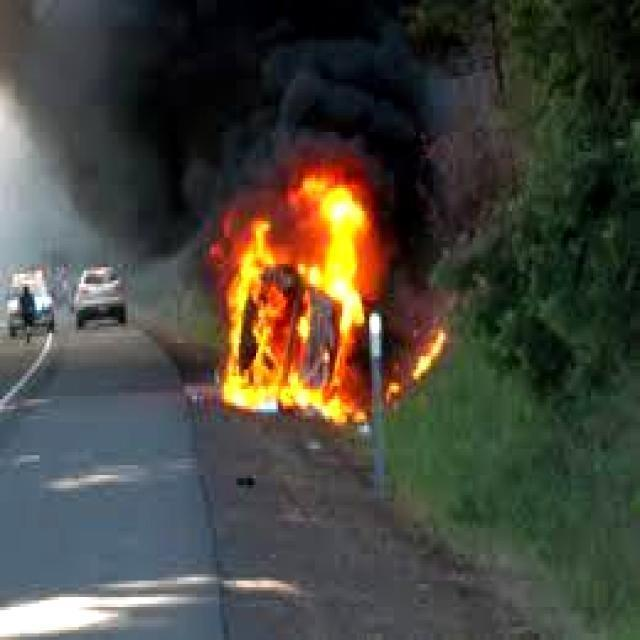Fire: (207, 158, 399, 420)
Smoke: (0, 0, 437, 249)
